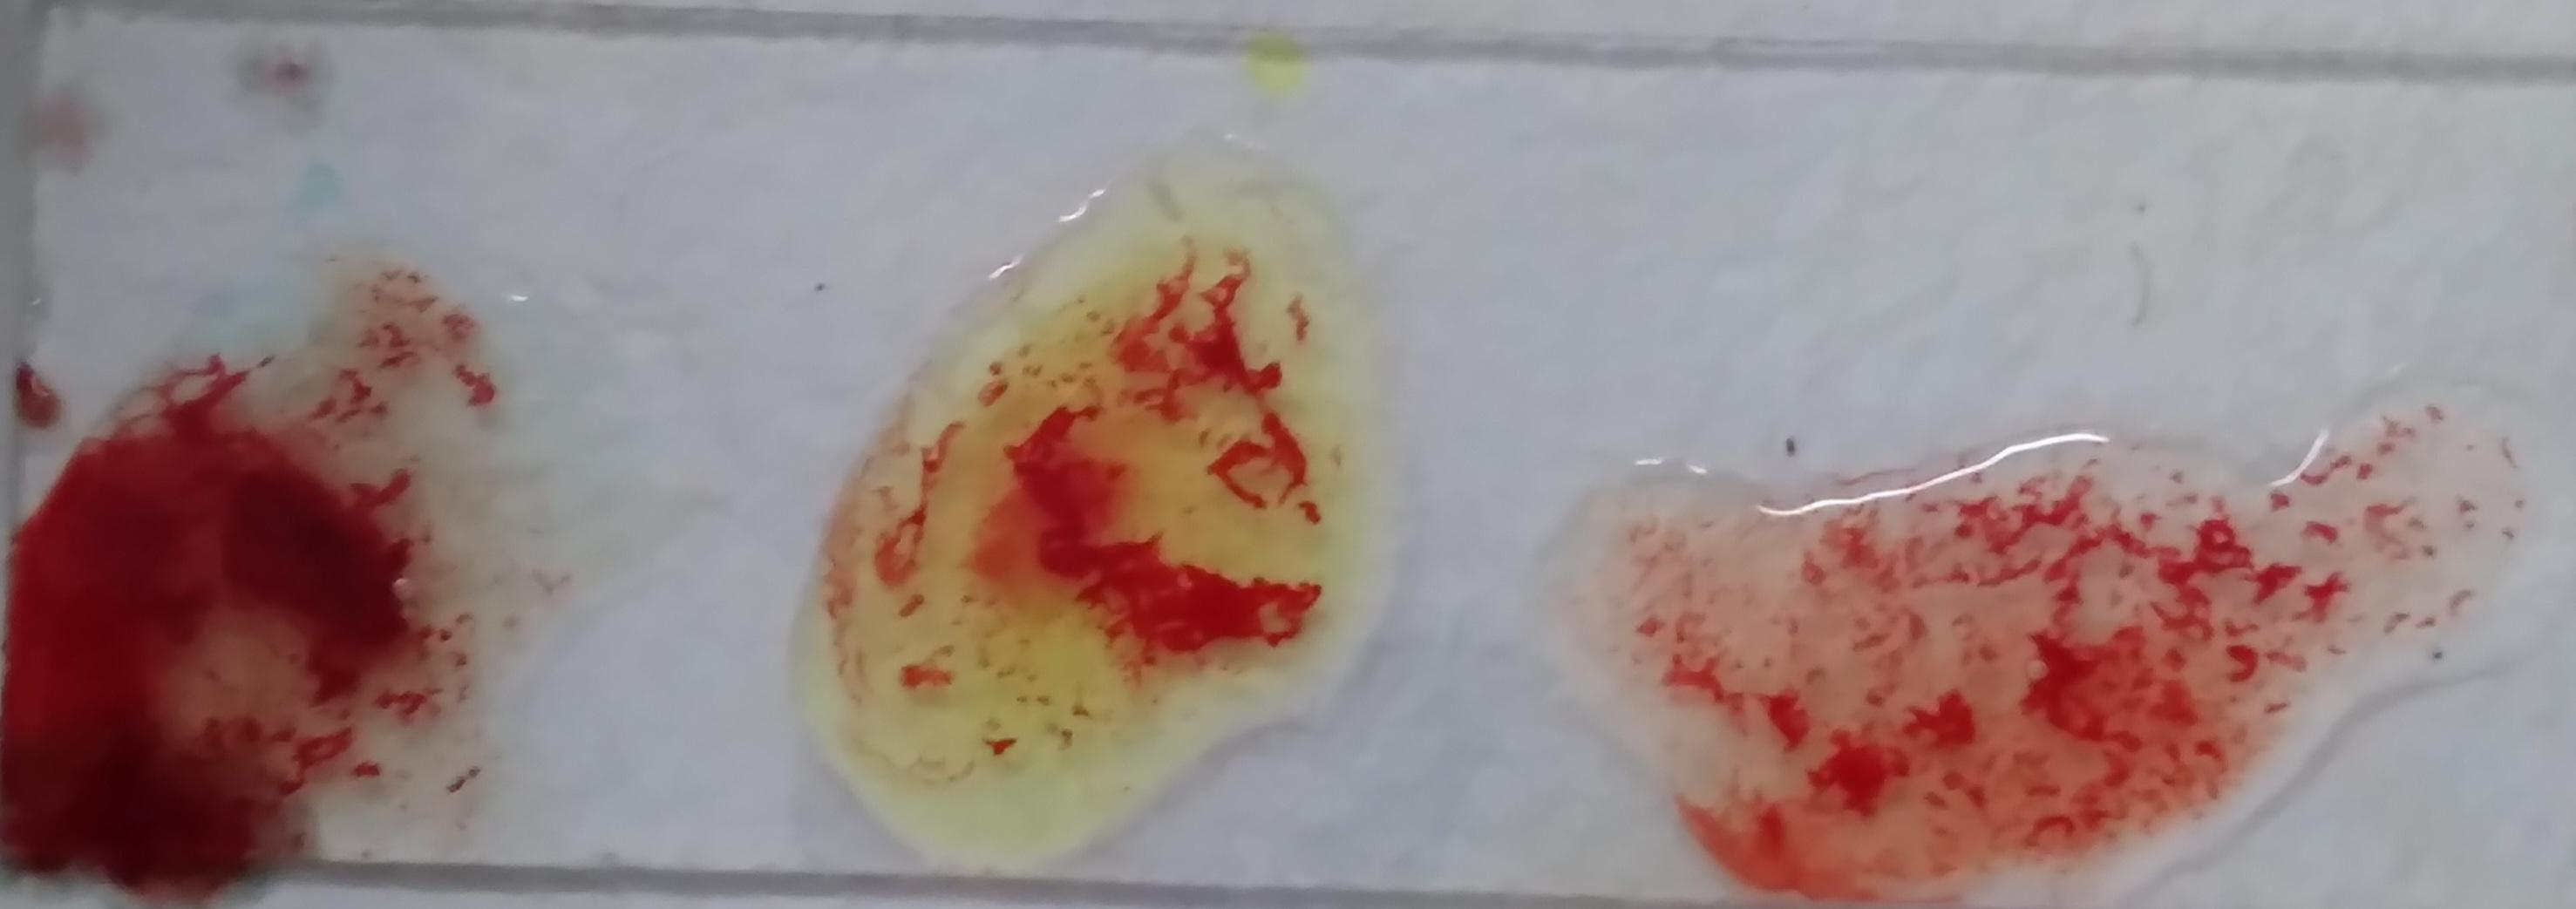A: (2078, 23, 2568, 661)
B: (1193, 44, 1735, 722)
D: (177, 10, 961, 495)
